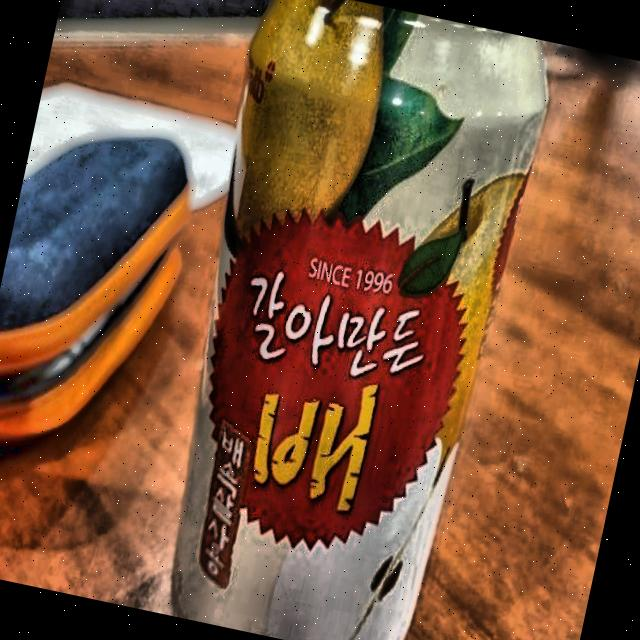galamandeunbae: (142, 0, 536, 640)
